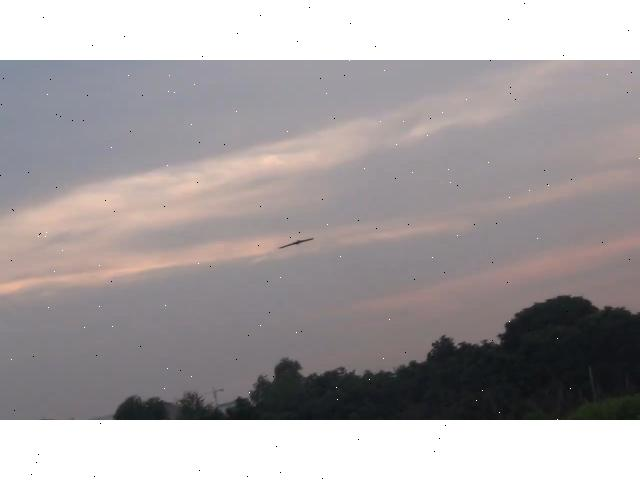Anti-Drone: (280, 239, 314, 249)
